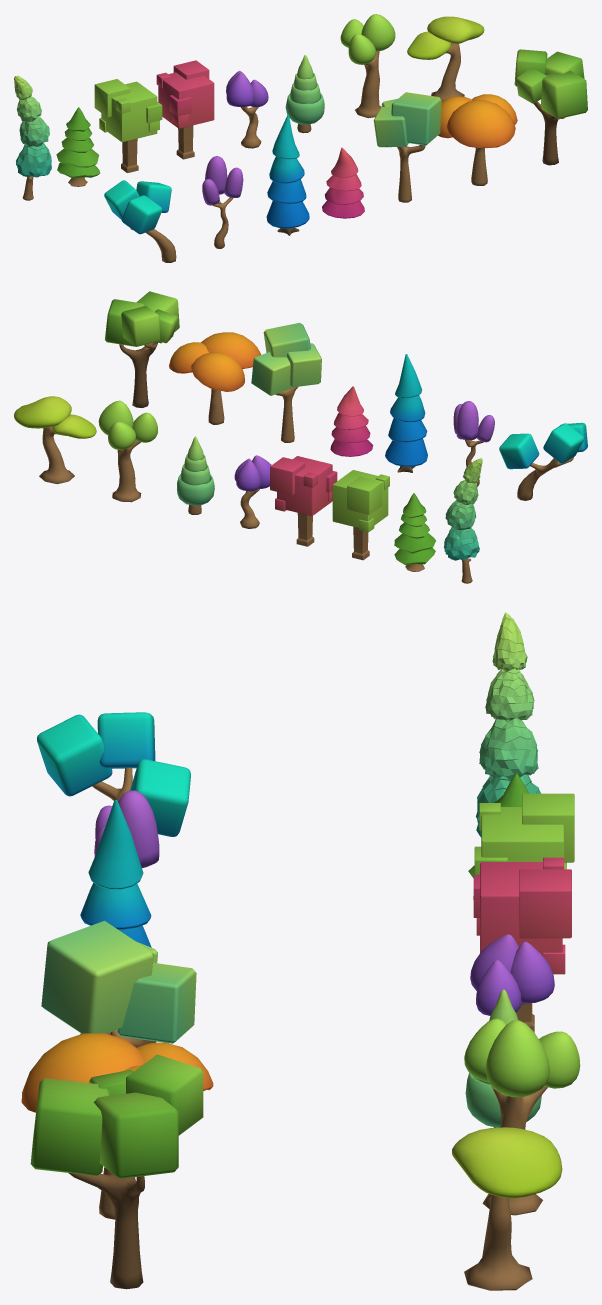
The model's file is Trees Salefbx.fbx.
3 renders of one model, top to bottom at view 1: azimuth 30°, elevation 25°; view 2: azimuth 150°, elevation 25°; view 3: azimuth 270°, elevation 25°, orthographic. The views are drawn at different scales.
Parts seen in each view (by area): view 1: Tree2, Tree13, Tree1, Tree12, Tree11, Tree3, Tree7, Tree8, Tree6, Tree15, Tree14, Tree5 (+3 smaller); view 2: Tree1, Tree2, Tree13, Tree11, Tree12, Tree3, Tree6, Tree7, Tree8, Tree15, Tree14, Tree5 (+3 smaller); view 3: Tree2, Tree1, Tree7, Tree6, Tree11, Tree8, Tree15, Tree12, Tree13, Tree3, Tree10, Tree4 (+1 smaller).
Boxes of the visible parts, x1,y1,x2,y2 form: Tree2: (514,49,587,165); Tree13: (438,94,517,185); Tree1: (373,92,441,202); Tree12: (94,79,162,172); Tree11: (156,60,214,159); Tree3: (266,114,309,235); Tree7: (104,180,176,262); Tree8: (340,14,395,118); Tree6: (407,16,484,101); Tree15: (14,75,51,200); Tree14: (56,107,100,186); Tree5: (322,147,364,218); Tree1: (251,322,321,442); Tree2: (105,291,179,407); Tree13: (169,332,261,424); Tree11: (270,456,337,546); Tree12: (332,470,389,560); Tree3: (385,354,427,472); Tree6: (14,396,96,484); Tree7: (499,422,587,500); Tree8: (98,400,157,502); Tree15: (444,458,482,583); Tree14: (394,493,435,571); Tree5: (330,386,373,456); Tree2: (30,1054,203,1289); Tree1: (41,920,196,1047); Tree7: (37,712,190,836); Tree6: (452,1127,562,1290); Tree11: (473,857,571,1032); Tree8: (464,1018,580,1215); Tree15: (476,612,540,836); Tree12: (474,793,574,874); Tree13: (21,1033,213,1219); Tree3: (80,799,151,947); Tree10: (470,934,554,1015); Tree4: (94,790,159,868).
Bounding box in the file's own units: 2191 × 562 × 1125.
